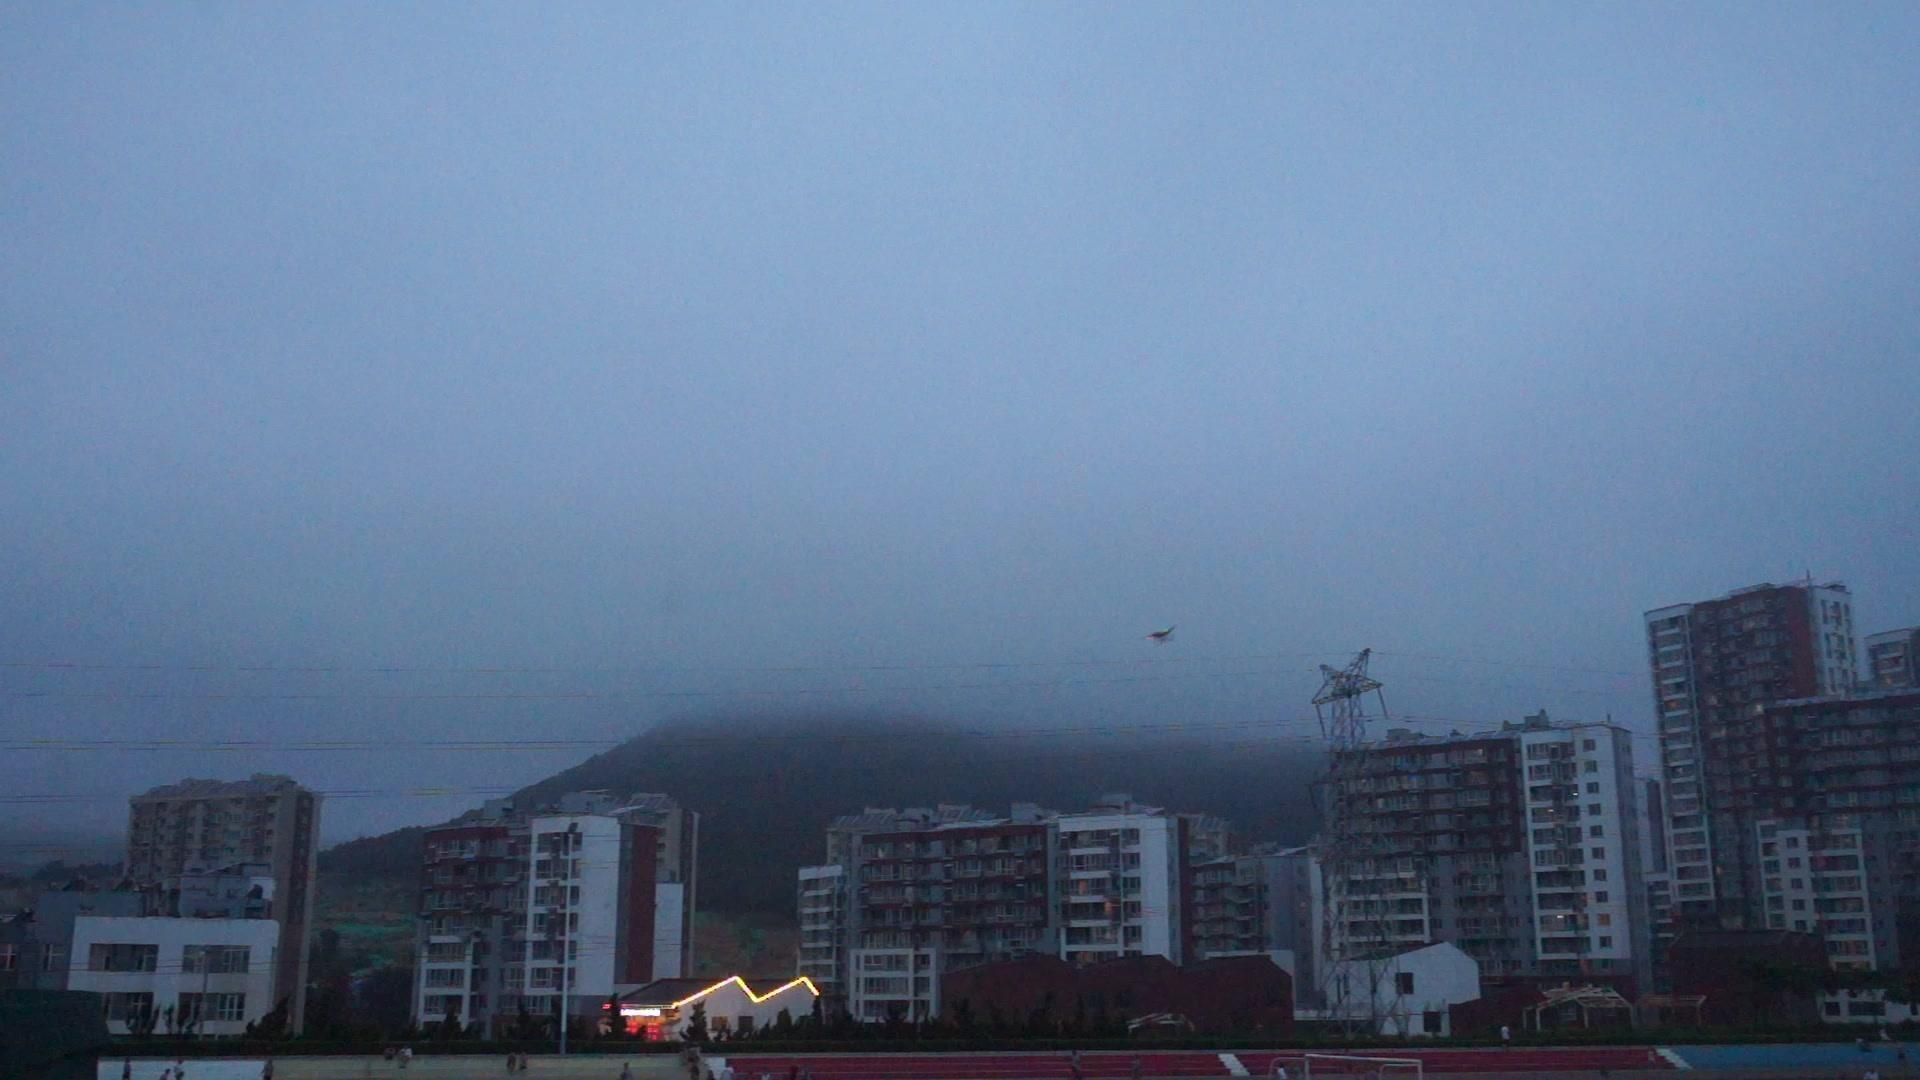UAV: (1145, 625, 1179, 647)
